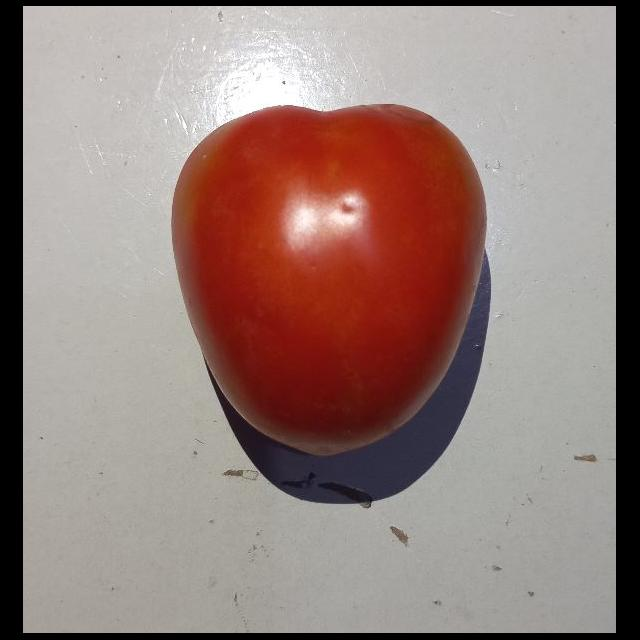tomato: (176, 99, 488, 442)
